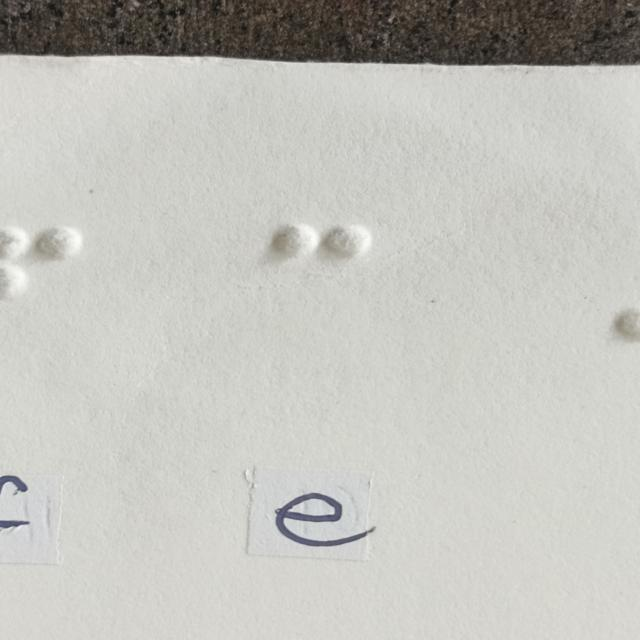e: (272, 225, 368, 344)
